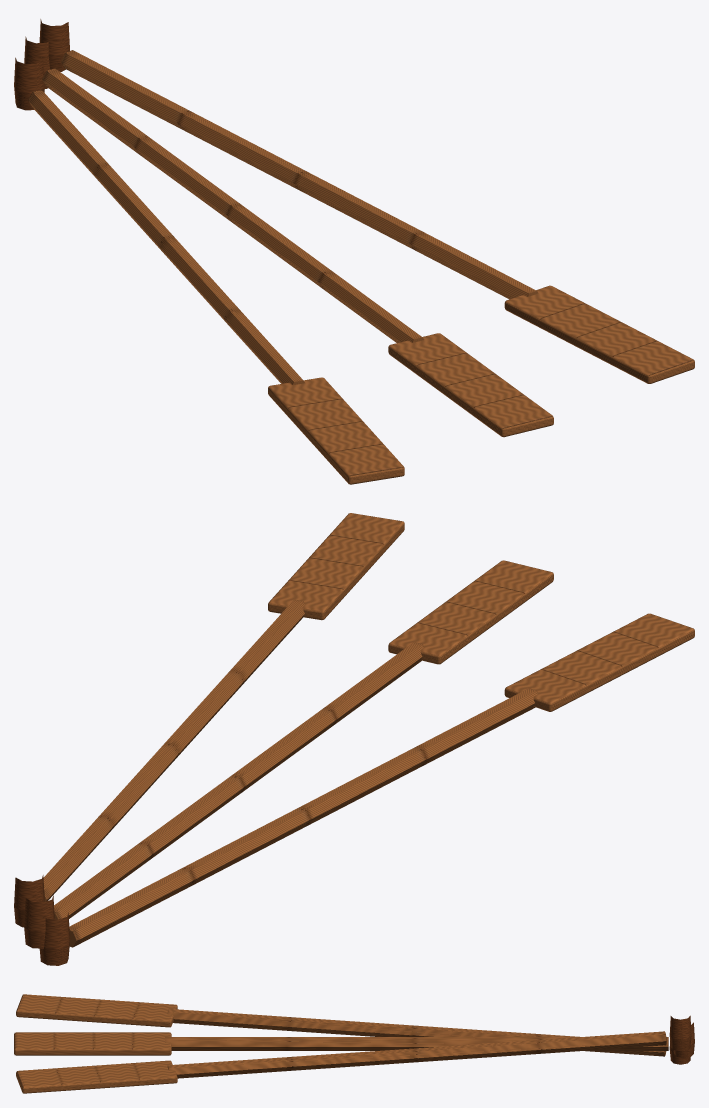
Rendered from greek-island-village-and-harbour-oar-set-2fb0fe7b__37107.glb.
3 renders of one model, top to bottom at view 1: azimuth 30°, elevation 25°; view 2: azimuth 150°, elevation 25°; view 3: azimuth 270°, elevation 25°, orthographic. The views are drawn at different scales.
Visible parts, largest first — view 1: oar-set; view 2: oar-set; view 3: oar-set.
Part boxes in pixels (x1,y1,x2,y2): oar-set: (14, 19, 694, 484); oar-set: (14, 513, 694, 965); oar-set: (14, 994, 694, 1093).
Size of the model in its own units: 1.25 by 0.27 by 3.11.
Materials: 2 (2 with a texture image).
